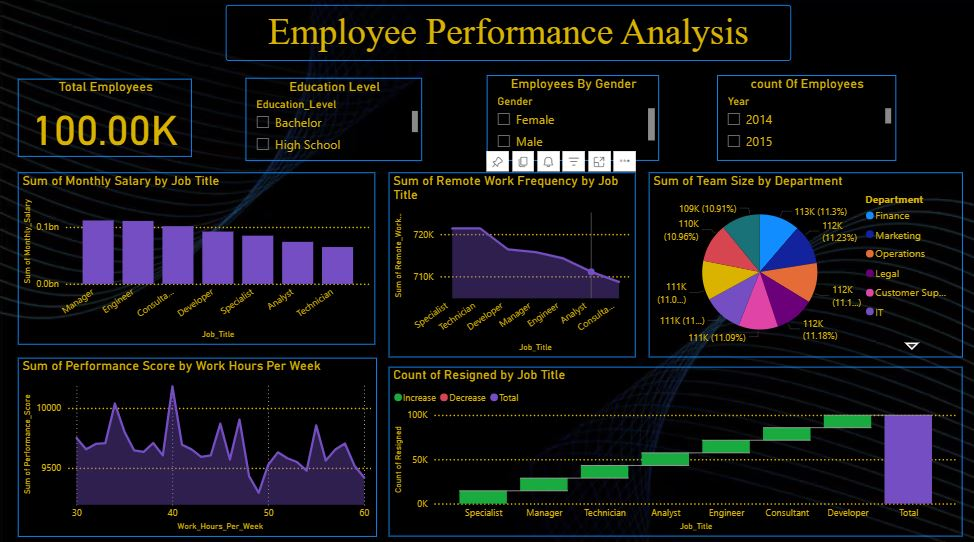

What the dashboard file says about the page in this screenshot:
{"tool":"powerbi","page":{"name":"Main Page","canvas":[1280,720],"ordinal":0},"visuals":[{"type":"textbox","box":[298,13.3,739.5,73.6],"z":0},{"type":"card","title":"Total Employees","fields":{"Values":["CountNonNull(Extended_Employee_Performance_and_Productivity_Data.Employee_ID)"]},"box":[25.3,109.8,228,102.5],"z":1000},{"type":"slicer","title":"Education Level","fields":{"Values":["Extended_Employee_Performance_and_Productivity_Data.Education_Level"]},"box":[323.3,108.6,231.6,108.6],"z":2000},{"type":"slicer","title":"Employees By Gender","fields":{"Values":["Extended_Employee_Performance_and_Productivity_Data.Gender"]},"box":[639.4,105,225.6,112.2],"z":3000},{"type":"slicer","title":"count Of Employees ","fields":{"Values":["Extended_Employee_Performance_and_Productivity_Data.Hire_Date.Variation.Date Hierarchy.Year"]},"box":[941,105,234.1,112.2],"z":4000},{"type":"clusteredColumnChart","title":"Sum of Monthly Salary by Job Title","fields":{"Category":["Extended_Employee_Performance_and_Productivity_Data.Job_Title"],"Y":["Sum(Extended_Employee_Performance_and_Productivity_Data.Monthly_Salary)"]},"box":[25.3,231.6,468.1,225.6],"z":5000},{"type":"areaChart","title":"Sum of Performance Score by Work Hours Per Week","fields":{"Category":["Extended_Employee_Performance_and_Productivity_Data.Work_Hours_Per_Week"],"Y":["Sum(Extended_Employee_Performance_and_Productivity_Data.Performance_Score)"]},"box":[25.3,474.1,470.5,234.1],"z":6000},{"type":"pieChart","title":"Sum of Team Size by Department","fields":{"Category":["Extended_Employee_Performance_and_Productivity_Data.Department"],"Y":["Sum(Extended_Employee_Performance_and_Productivity_Data.Team_Size)"]},"box":[851.8,231.6,411.4,242.5],"z":7000},{"type":"stackedAreaChart","title":"Sum of Remote Work Frequency by Job Title","fields":{"Category":["Extended_Employee_Performance_and_Productivity_Data.Job_Title"],"Y":["Sum(Extended_Employee_Performance_and_Productivity_Data.Remote_Work_Frequency)"]},"box":[511.5,231.6,323.3,242.5],"z":8000},{"type":"waterfallChart","title":"Count of Resigned by Job Title","fields":{"Category":["Extended_Employee_Performance_and_Productivity_Data.Job_Title"],"Y":["CountNonNull(Extended_Employee_Performance_and_Productivity_Data.Resigned)"]},"box":[511.5,486.2,751.6,222],"z":9000}]}

Visuals, with their boxes in screenshot pixels (x1, y1, x2, y2), scaled from the page's 1280x720 canvas onto the 974x542 screenshot:
textbox: region(227, 10, 789, 65)
"Total Employees" card: region(19, 83, 193, 160)
"Education Level" slicer: region(246, 82, 422, 164)
"Employees By Gender" slicer: region(487, 79, 658, 164)
"count Of Employees " slicer: region(716, 79, 894, 164)
"Sum of Monthly Salary by Job Title" clusteredColumnChart: region(19, 174, 375, 344)
"Sum of Performance Score by Work Hours Per Week" areaChart: region(19, 357, 377, 533)
"Sum of Team Size by Department" pieChart: region(648, 174, 961, 357)
"Sum of Remote Work Frequency by Job Title" stackedAreaChart: region(389, 174, 635, 357)
"Count of Resigned by Job Title" waterfallChart: region(389, 366, 961, 533)
